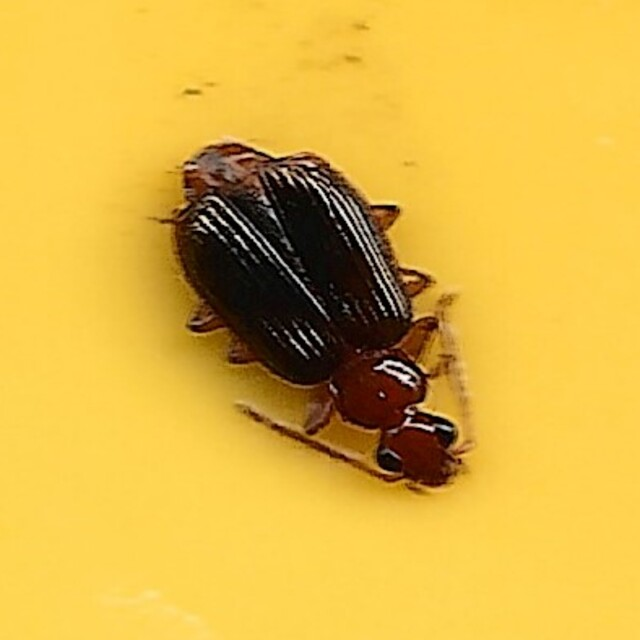Coleoptera: (162, 141, 478, 499)
